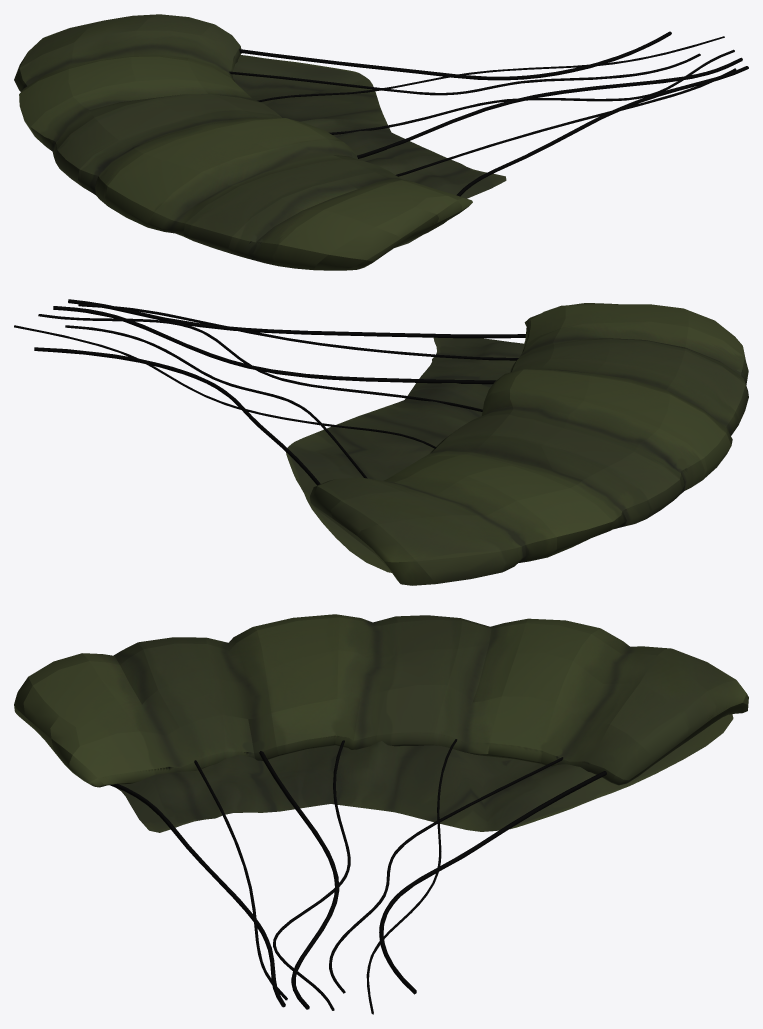
The model's file is Parachute.fbx.
3 renders of one model, top to bottom at view 1: azimuth 30°, elevation 25°; view 2: azimuth 150°, elevation 25°; view 3: azimuth 270°, elevation 25°, orthographic. The views are drawn at different scales.
Visible parts, largest first — view 1: para_bottom_subd.002; view 2: para_bottom_subd.002; view 3: para_bottom_subd.002.
Part boxes in pixels (x1,y1,x2,y2): para_bottom_subd.002: [14, 14, 748, 270]; para_bottom_subd.002: [14, 299, 748, 585]; para_bottom_subd.002: [14, 614, 748, 1014].
Bounding box in the file's own units: 3.14 × 0.2334 × 2.6.
